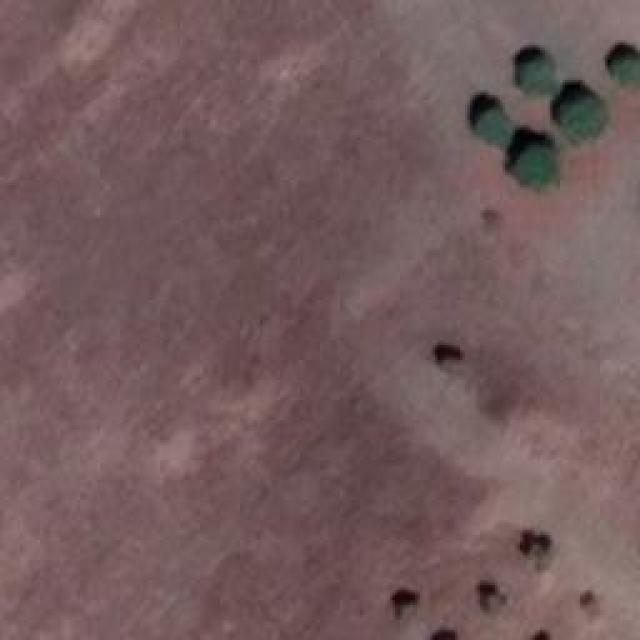Tree: (510, 140, 558, 193), (555, 93, 605, 138), (520, 55, 550, 95), (478, 103, 508, 143), (612, 58, 640, 88)
